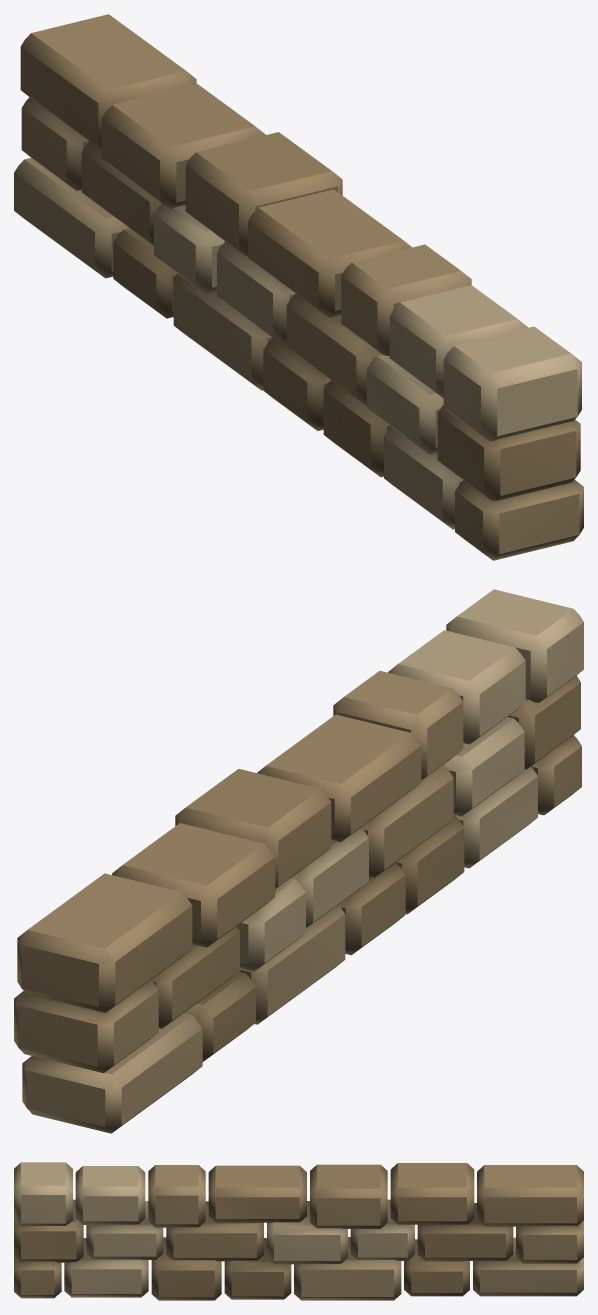
File: stone_wall.glb
The picture shows the model from 3 angles, top to bottom: view 1: azimuth 30°, elevation 25°; view 2: azimuth 150°, elevation 25°; view 3: azimuth 270°, elevation 25°; orthographic projection. The views are drawn at different scales.
Visible parts, largest first — view 1: stone_wall_mesh; view 2: stone_wall_mesh; view 3: stone_wall_mesh.
Part boxes in pixels (x1,y1,x2,y2): stone_wall_mesh: (14, 14, 583, 560); stone_wall_mesh: (14, 589, 583, 1133); stone_wall_mesh: (14, 1162, 583, 1300).
Bounding box in the file's own units: 0.5526 × 0.876 × 3.98.
